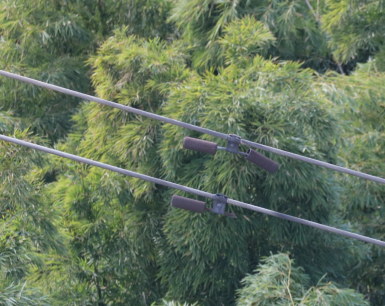damper: (181, 131, 281, 175)
damper_defect: (169, 190, 245, 221)
